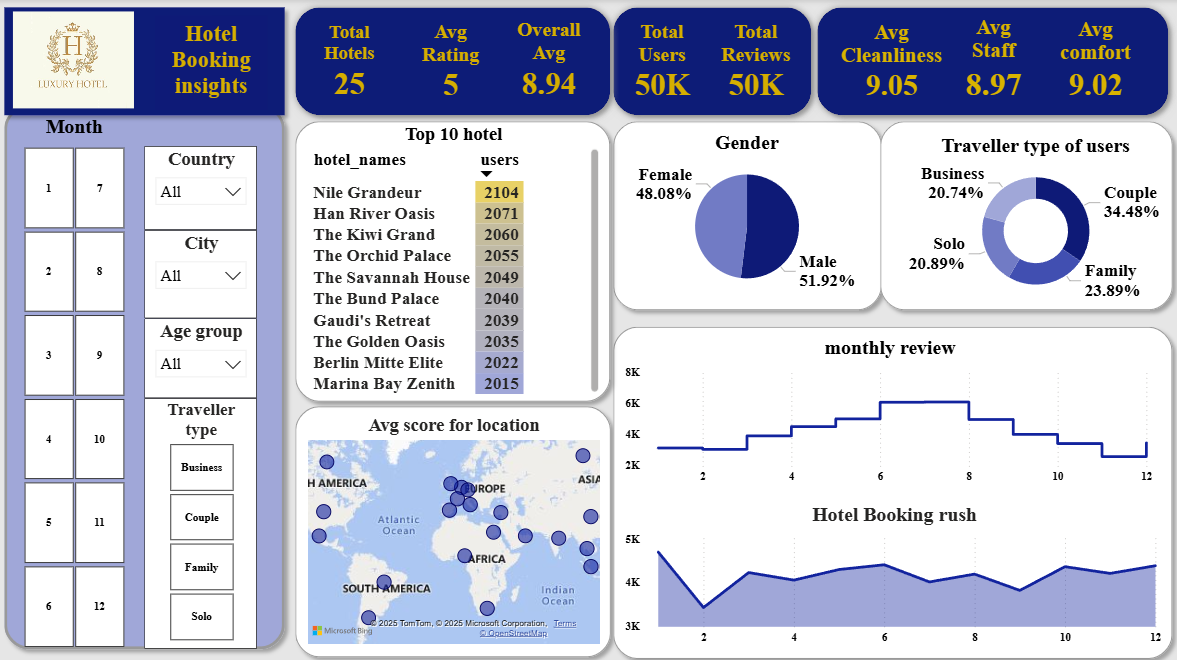

The dashboard page shown, as its layout file describes it:
{"tool":"powerbi","page":{"name":"Page 1","canvas":[1280,720],"ordinal":0},"visuals":[{"type":"shape","box":[314.7,430.2,358.5,288.8],"z":0},{"type":"shape","box":[657.4,123.1,307.7,221.8],"z":1000},{"type":"shape","box":[877.6,0,396.7,134.4],"z":2000},{"type":"shape","box":[657.4,0,231.5,134.4],"z":3000},{"type":"shape","box":[314.1,0,357.8,134.4],"z":4000},{"type":"shape","box":[657.3,344.6,621.4,376.4],"z":5000},{"type":"shape","box":[945.6,123.1,333.6,221.8],"z":6000},{"type":"shape","box":[0,105.2,320.6,605.6],"z":7000},{"type":"shape","box":[0,0,320.6,134.4],"z":8000},{"type":"shape","box":[314.1,123.1,357.8,320.6],"z":9000},{"type":"textbox","box":[171.6,17.8,121.4,102],"z":10000},{"type":"slicer","title":"City","fields":{"Values":["public hotels.city"]},"box":[160.3,249.4,121.4,95.5],"z":11000},{"type":"slicer","title":"Country","fields":{"Values":["public hotels.country"]},"box":[160.3,158.7,121.4,90.7],"z":12000},{"type":"slicer","title":"Traveller type","fields":{"Values":["public users.traveller_type"]},"box":[160.3,430.7,121.4,270.4],"z":13000},{"type":"card","title":"Total Hotels","fields":{"Values":["CountNonNull(public hotels.hotel_id)"]},"box":[340,24.3,82.6,85.8],"z":14000},{"type":"card","title":"Total Users","fields":{"Values":["CountNonNull(public reviews.user_id)"]},"box":[673.6,22.7,90.7,87.4],"z":15000},{"type":"card","title":"Total Reviews","fields":{"Values":["CountNonNull(public reviews.review_id)"]},"box":[772.4,22.7,95.5,87.4],"z":16000},{"type":"slicer","title":"Month","fields":{"Values":["public reviews.month"]},"box":[9.7,158.7,147.3,542.4],"z":17000},{"type":"card","title":"Overall Avg","fields":{"Values":["Avg(public reviews.score_overall)"]},"box":[553.8,21,85.8,89.1],"z":18000},{"type":"card","title":"Avg Rating","fields":{"Values":["Avg(public hotels.star_rating)"]},"box":[450.1,22.7,81,87.4],"z":19000},{"type":"tableEx","title":"Top 10 hotel ","fields":{"Values":["public hotels.hotel_name","public reviews.user_id"]},"box":[331.9,134.4,323.8,296.3],"z":20000},{"type":"donutChart","title":"Traveller type of users","fields":{"Category":["public users.traveller_type"],"Y":["CountNonNull(public reviews.user_id)"]},"box":[969.9,145.7,304.4,184.6],"z":21000},{"type":"pieChart","title":"Gender","fields":{"Category":["public users.user_gender"],"Y":["Sum(public reviews.user_id)"]},"box":[675.2,142.5,270.4,181.4],"z":22000},{"type":"image","box":[13,8.1,140.9,115],"z":23000},{"type":"slicer","title":"Age group","fields":{"Values":["public users.age_group"]},"box":[160.3,344.9,121.4,85.8],"z":24000},{"type":"map","title":"Avg score for location","fields":{"Category":["public hotels.country"],"Y":["Avg(public hotels.lat)"],"Size":["Avg(public reviews.score_location)"]},"box":[332.6,448.1,324.7,253],"z":25000},{"type":"areaChart","title":"Hotel Booking rush","fields":{"Y":["CountNonNull(public reviews.user_id)"],"Category":["public users.month"]},"box":[673.6,544.1,592.6,160.3],"z":26000},{"type":"lineChart","title":"monthly  review","fields":{"Category":["public reviews.month"],"Y":["CountNonNull(public reviews.user_id)"]},"box":[673.6,364.3,582.9,166.8],"z":27000},{"type":"card","title":"Avg Cleanliness","fields":{"Values":["Avg(public reviews.score_cleanliness)"]},"box":[900.3,22.7,132.8,87.4],"z":28000},{"type":"card","title":"Avg Staff","fields":{"Values":["Avg(public reviews.score_staff)"]},"box":[1033.1,17.8,87.4,95.5],"z":29000},{"type":"card","title":"Avg comfort","fields":{"Values":["Avg(public reviews.score_comfort)"]},"box":[1136.7,19.4,100.4,92.3],"z":30000},{"type":"textbox","box":[47.8,119.5,75.7,45.8],"z":31000}]}

Visuals, with their boxes in screenshot pixels (x1, y1, x2, y2), scaled from the page's 1280x720 canvas onto the 1177x660 screenshot:
shape: 289,394,619,659
shape: 604,113,887,316
shape: 807,0,1172,123
shape: 604,0,817,123
shape: 289,0,618,123
shape: 604,316,1176,659
shape: 870,113,1176,316
shape: 0,96,295,652
shape: 0,0,295,123
shape: 289,113,618,407
textbox: 158,16,269,110
"City" slicer: 147,229,259,316
"Country" slicer: 147,145,259,229
"Traveller type" slicer: 147,395,259,643
"Total Hotels" card: 313,22,389,101
"Total Users" card: 619,21,703,101
"Total Reviews" card: 710,21,798,101
"Month" slicer: 9,145,144,643
"Overall Avg" card: 509,19,588,101
"Avg Rating" card: 414,21,488,101
"Top 10 hotel " tableEx: 305,123,603,395
"Traveller type of users" donutChart: 892,134,1172,303
"Gender" pieChart: 621,131,870,297
image: 12,7,142,113
"Age group" slicer: 147,316,259,395
"Avg score for location" map: 306,411,604,643
"Hotel Booking rush" areaChart: 619,499,1164,646
"monthly  review" lineChart: 619,334,1155,487
"Avg Cleanliness" card: 828,21,950,101
"Avg Staff" card: 950,16,1030,104
"Avg comfort" card: 1045,18,1138,102
textbox: 44,110,114,152
